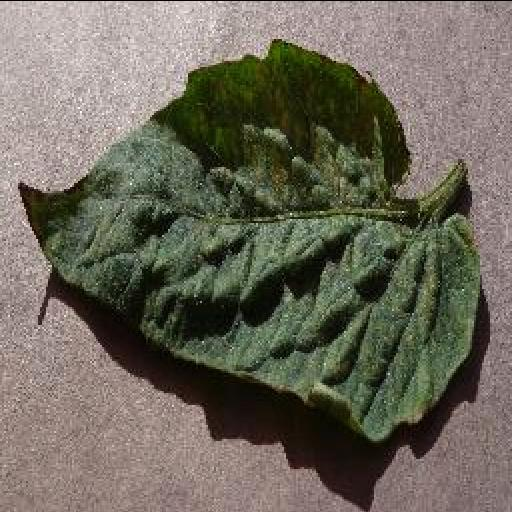disease_tomato: (18, 40, 480, 440)
